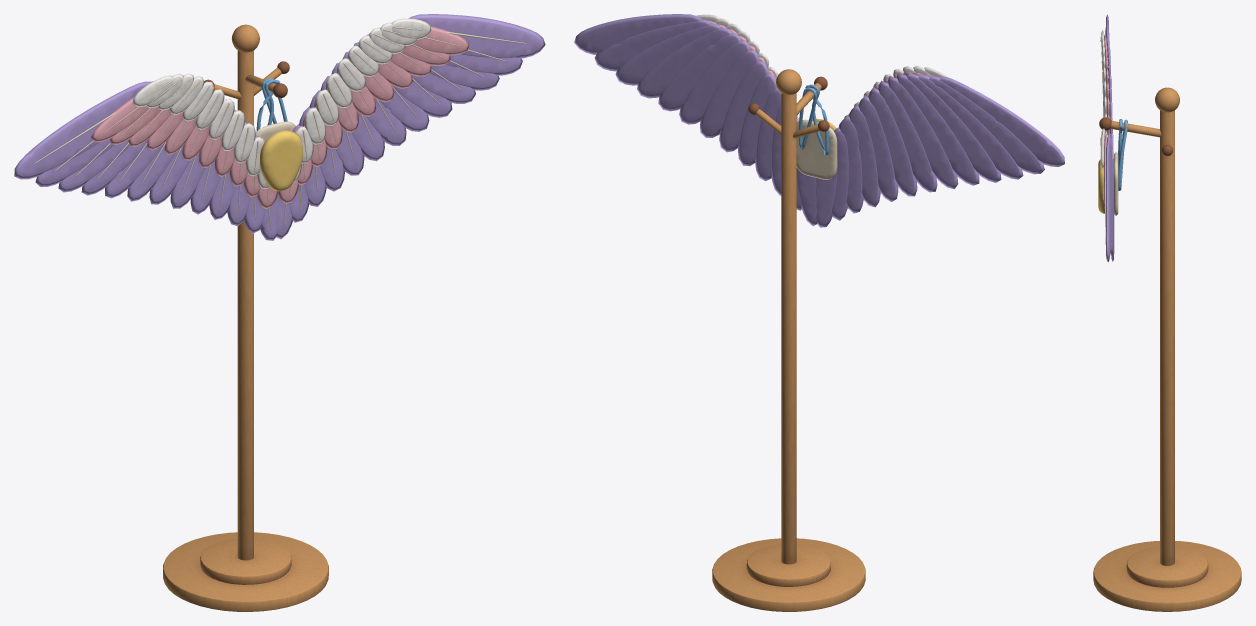
File: costume-wings.glb
The picture shows the model from 3 angles, left to right: view 1: azimuth 30°, elevation 25°; view 2: azimuth 150°, elevation 25°; view 3: azimuth 270°, elevation 25°; orthographic projection. The views are drawn at different scales.
Visible parts, largest first — view 1: costume-wings_body; view 2: costume-wings_body; view 3: costume-wings_body.
Part boxes in pixels (box(x1,y1,x2,y2)): costume-wings_body: box(14, 14, 545, 611); costume-wings_body: box(574, 14, 1064, 611); costume-wings_body: box(1093, 14, 1241, 611).
Size of the model in its own units: 1.48 by 1.48 by 0.4.
Materials: 1 (1 with a texture image).
